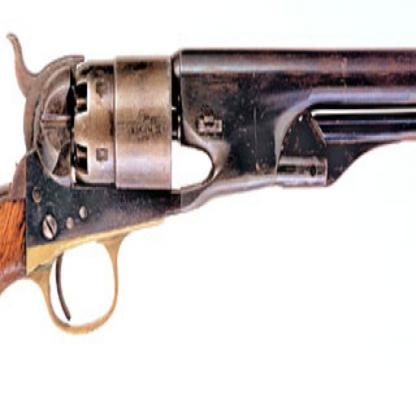gun: (0, 31, 415, 415)
